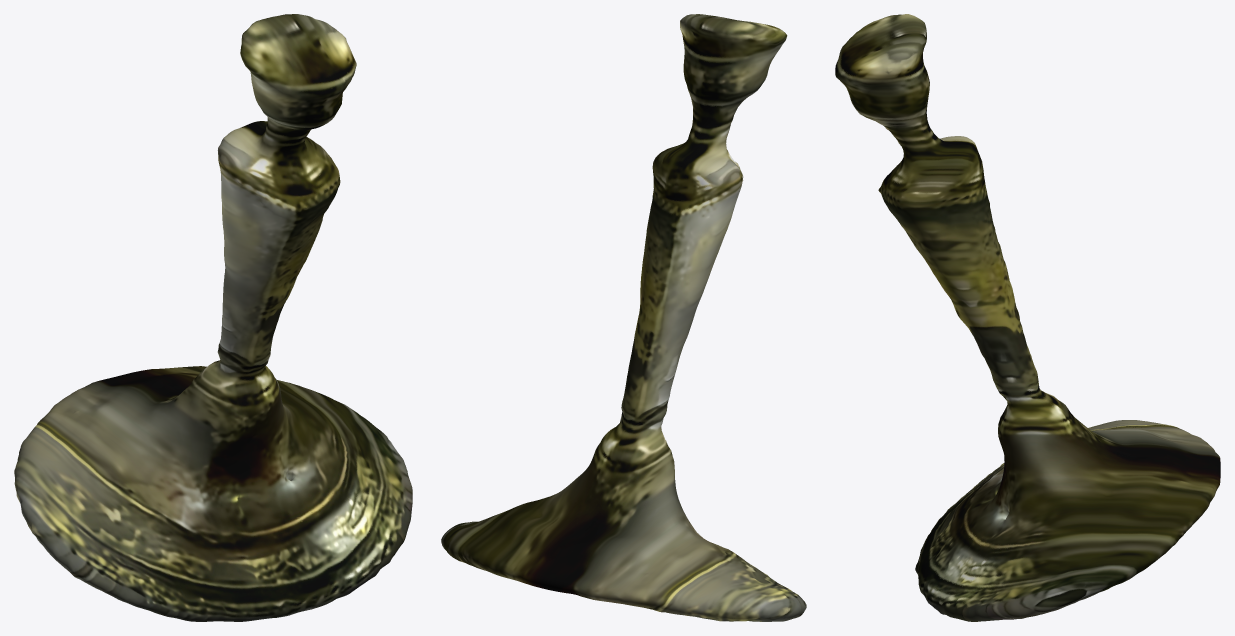
File: kfl-2154.glb
3 views of the same model, side by side, from view 1: azimuth 30°, elevation 25°; view 2: azimuth 150°, elevation 25°; view 3: azimuth 270°, elevation 25° (orthographic). The views are drawn at different scales.
Parts seen in each view (by area): view 1: kfl-2154; view 2: kfl-2154; view 3: kfl-2154.
Boxes of the visible parts, x1,y1,x2,y2 form: kfl-2154: [14, 14, 412, 621]; kfl-2154: [441, 14, 806, 621]; kfl-2154: [835, 14, 1220, 621].
Size of the model in its own units: 0.617 by 0.9961 by 0.6359.
1 material, 1 textured.
